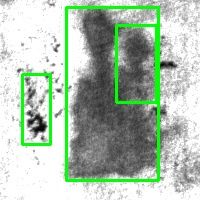inclusion: (22, 74, 50, 144)
patches: (66, 7, 158, 180), (116, 25, 156, 102)
